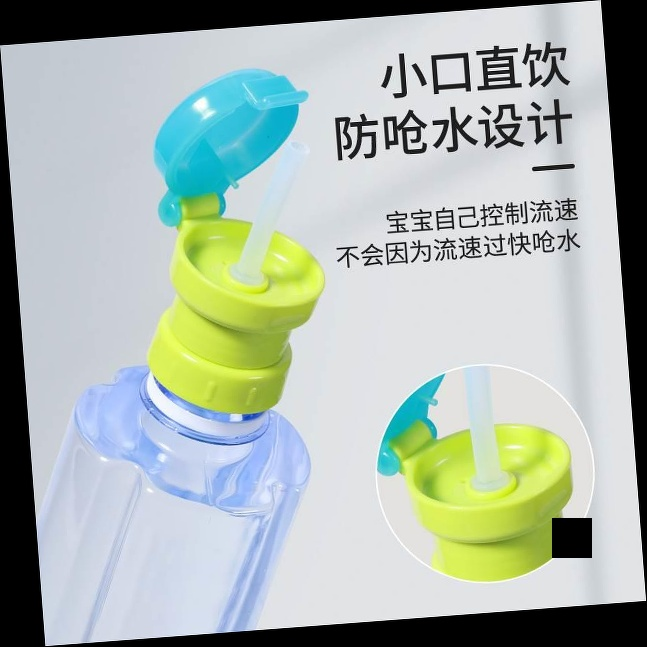bottle: (33, 314, 336, 635)
